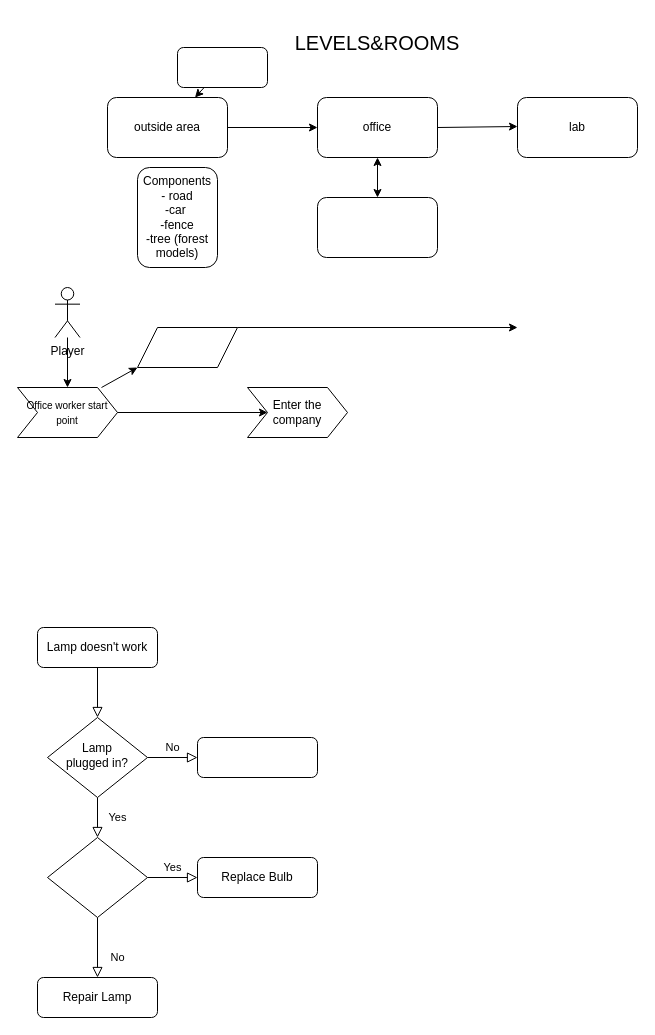
The diagram is 655 pixels wide and 1035 high, and some of its shapes have lost their labels. Here are the shapes that lost their labels. From the top down, the box of each, then its label:
(176, 46, 268, 88): Outside Company Model
(316, 196, 438, 258): Storage
(136, 326, 238, 368): Find lever
(196, 736, 318, 778): Plug in lamp
(46, 836, 148, 918): Bulb burned out?
